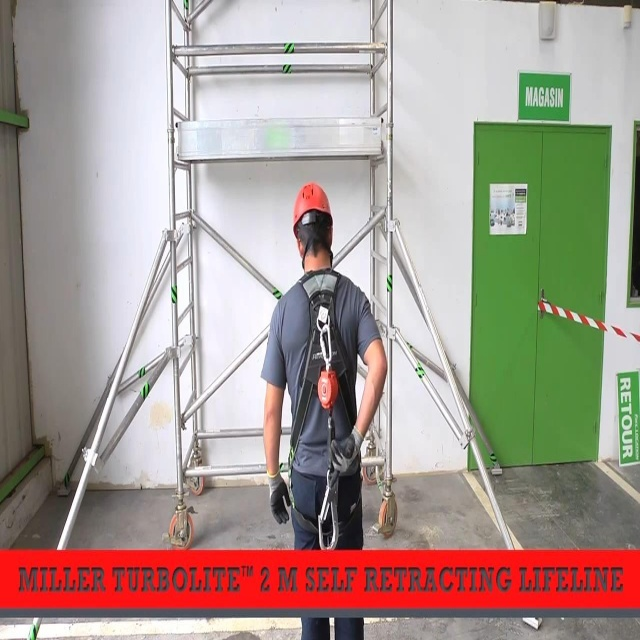Arnes_seguridad: (280, 262, 365, 554)
